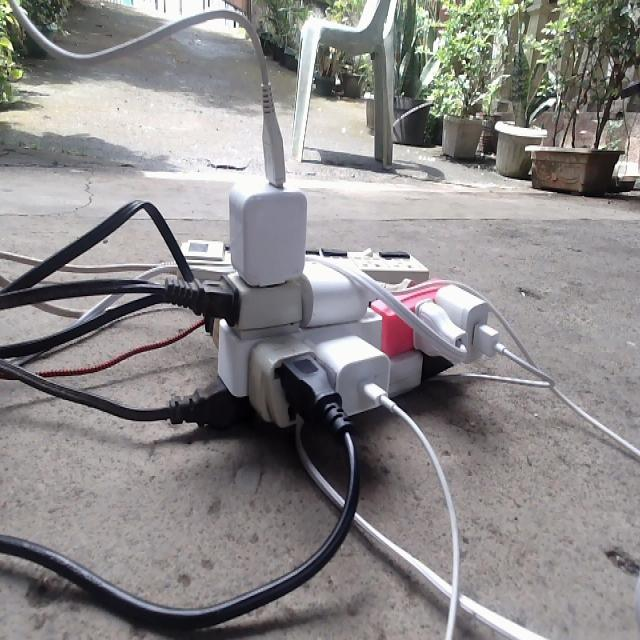-: (187, 256, 501, 429)
